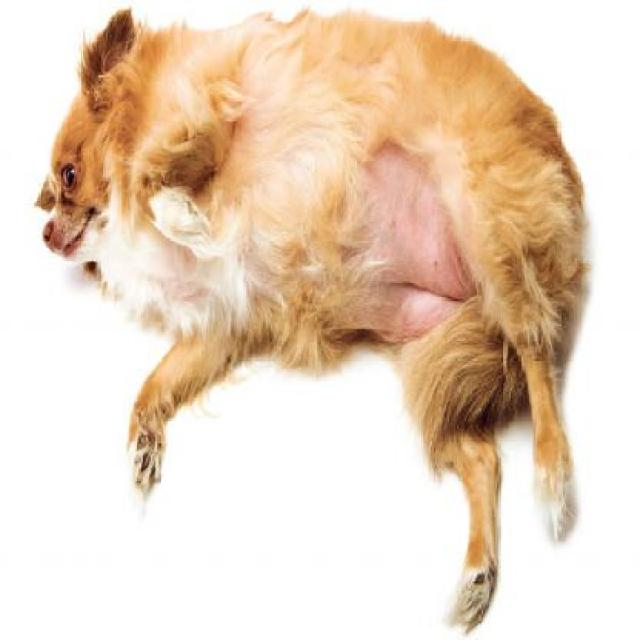Dog: (32, 7, 596, 638)
